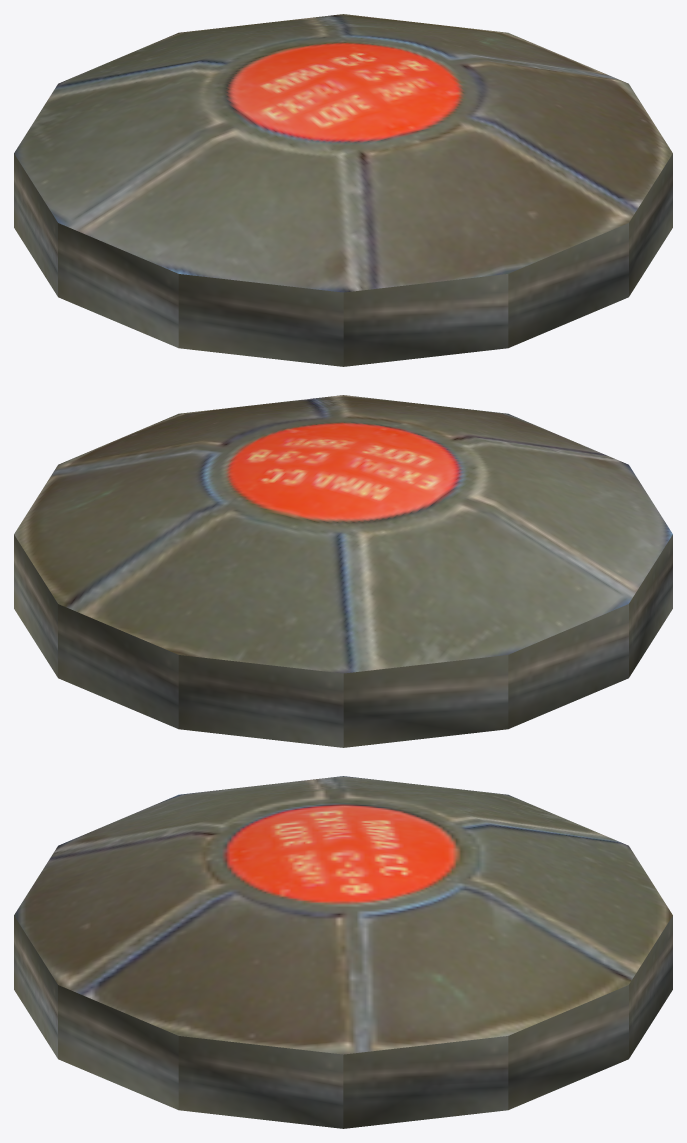
The model's file is Items.Landmine.fbx.
The picture shows the model from 3 angles, top to bottom: view 1: azimuth 30°, elevation 25°; view 2: azimuth 150°, elevation 25°; view 3: azimuth 270°, elevation 25°; orthographic projection.
Visible parts, largest first — view 1: Landmine; view 2: Landmine; view 3: Landmine.
Boxes of the visible parts, x1,y1,x2,y2 form: Landmine: (14,14,672,366); Landmine: (14,395,672,747); Landmine: (14,776,672,1128).
Size of the model in its own units: 22.8 by 5.69 by 22.8.
